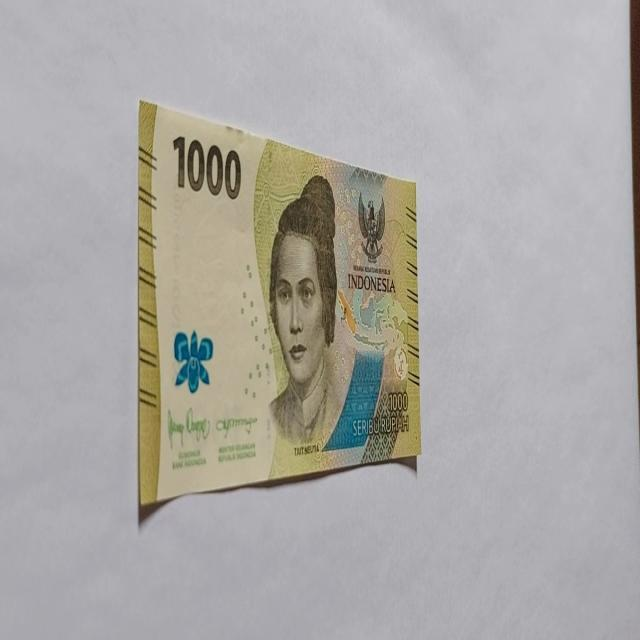seribu rupiah kertas: (137, 98, 420, 510)
